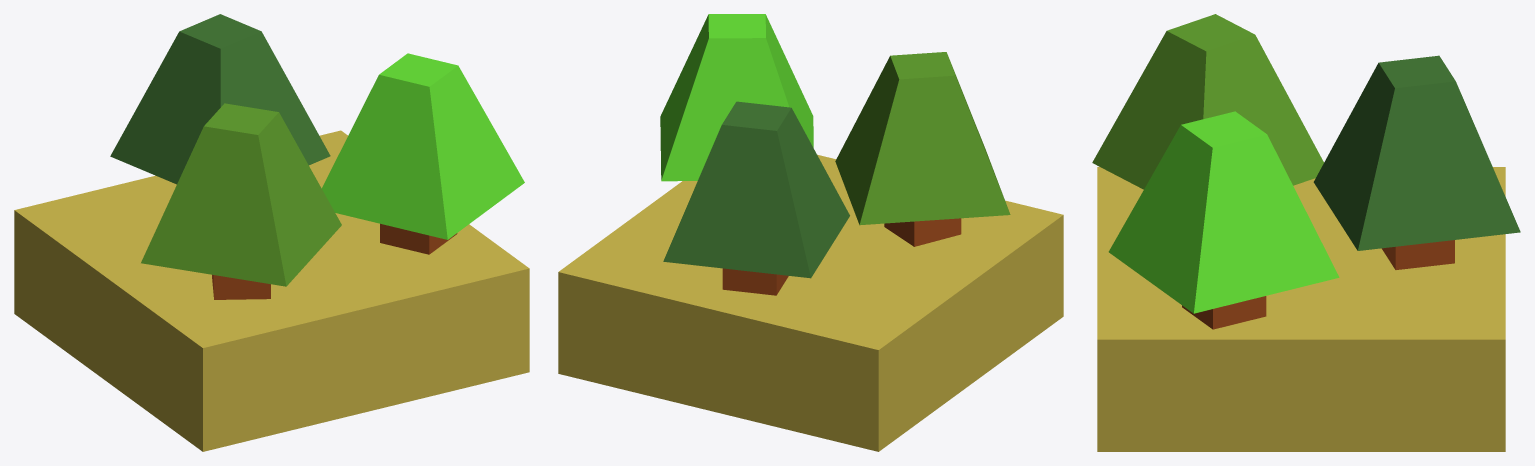
The model's file is platform.fbx.
3 views of the same model, side by side, from view 1: azimuth 30°, elevation 25°; view 2: azimuth 150°, elevation 25°; view 3: azimuth 270°, elevation 25° (orthographic). The views are drawn at different scales.
Visible parts, largest first — view 1: platform; view 2: platform; view 3: platform.
Boxes of the visible parts, bbox=[...] form: platform: bbox=[14, 14, 529, 451]; platform: bbox=[558, 14, 1063, 451]; platform: bbox=[1092, 14, 1520, 451].
Size of the model in its own units: 901 by 632 by 833.
